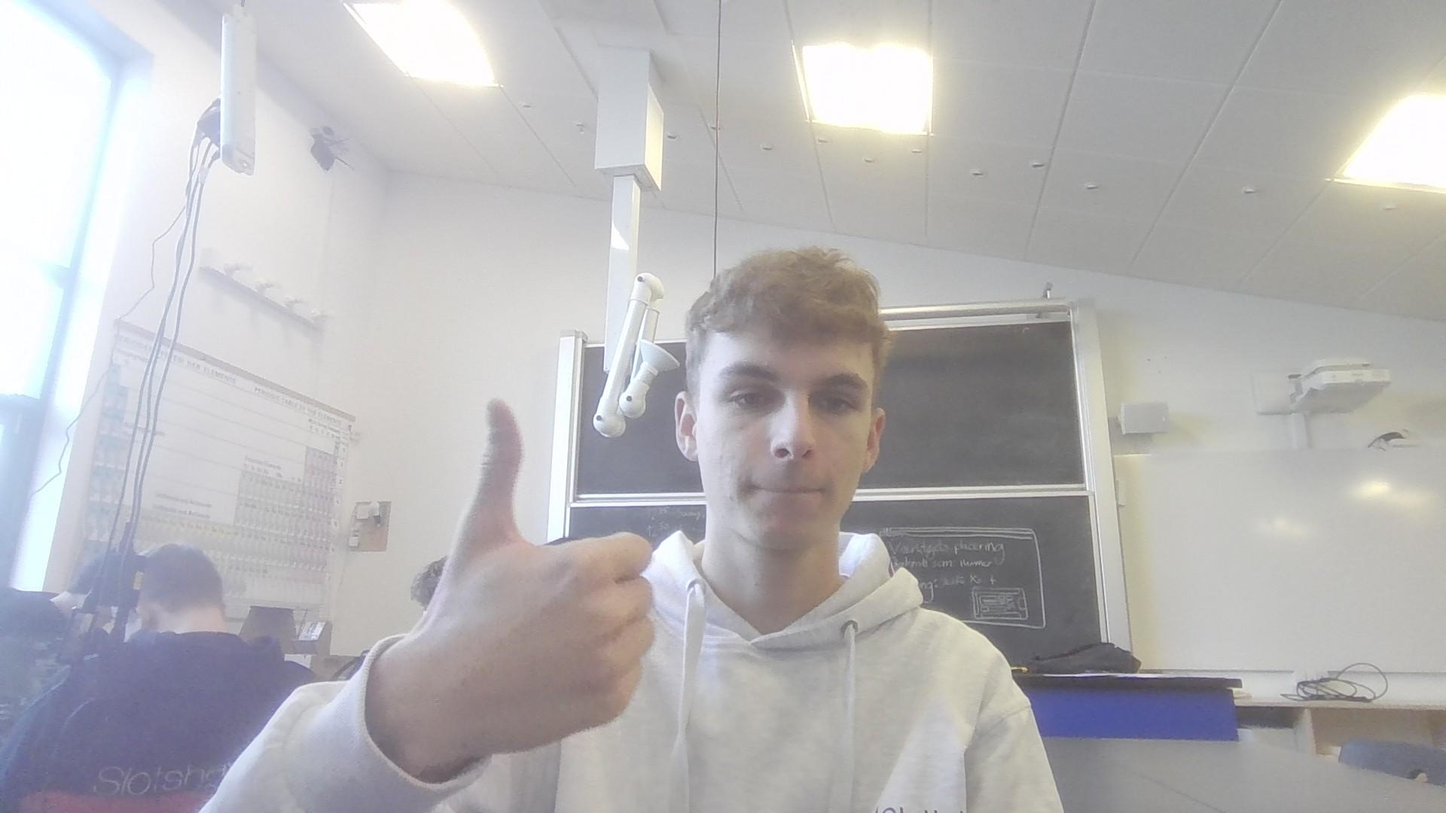thumbs up: (385, 396, 661, 779)
